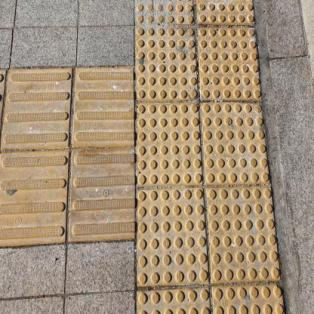Podoctatil: (130, 0, 288, 313), (0, 61, 136, 251)
